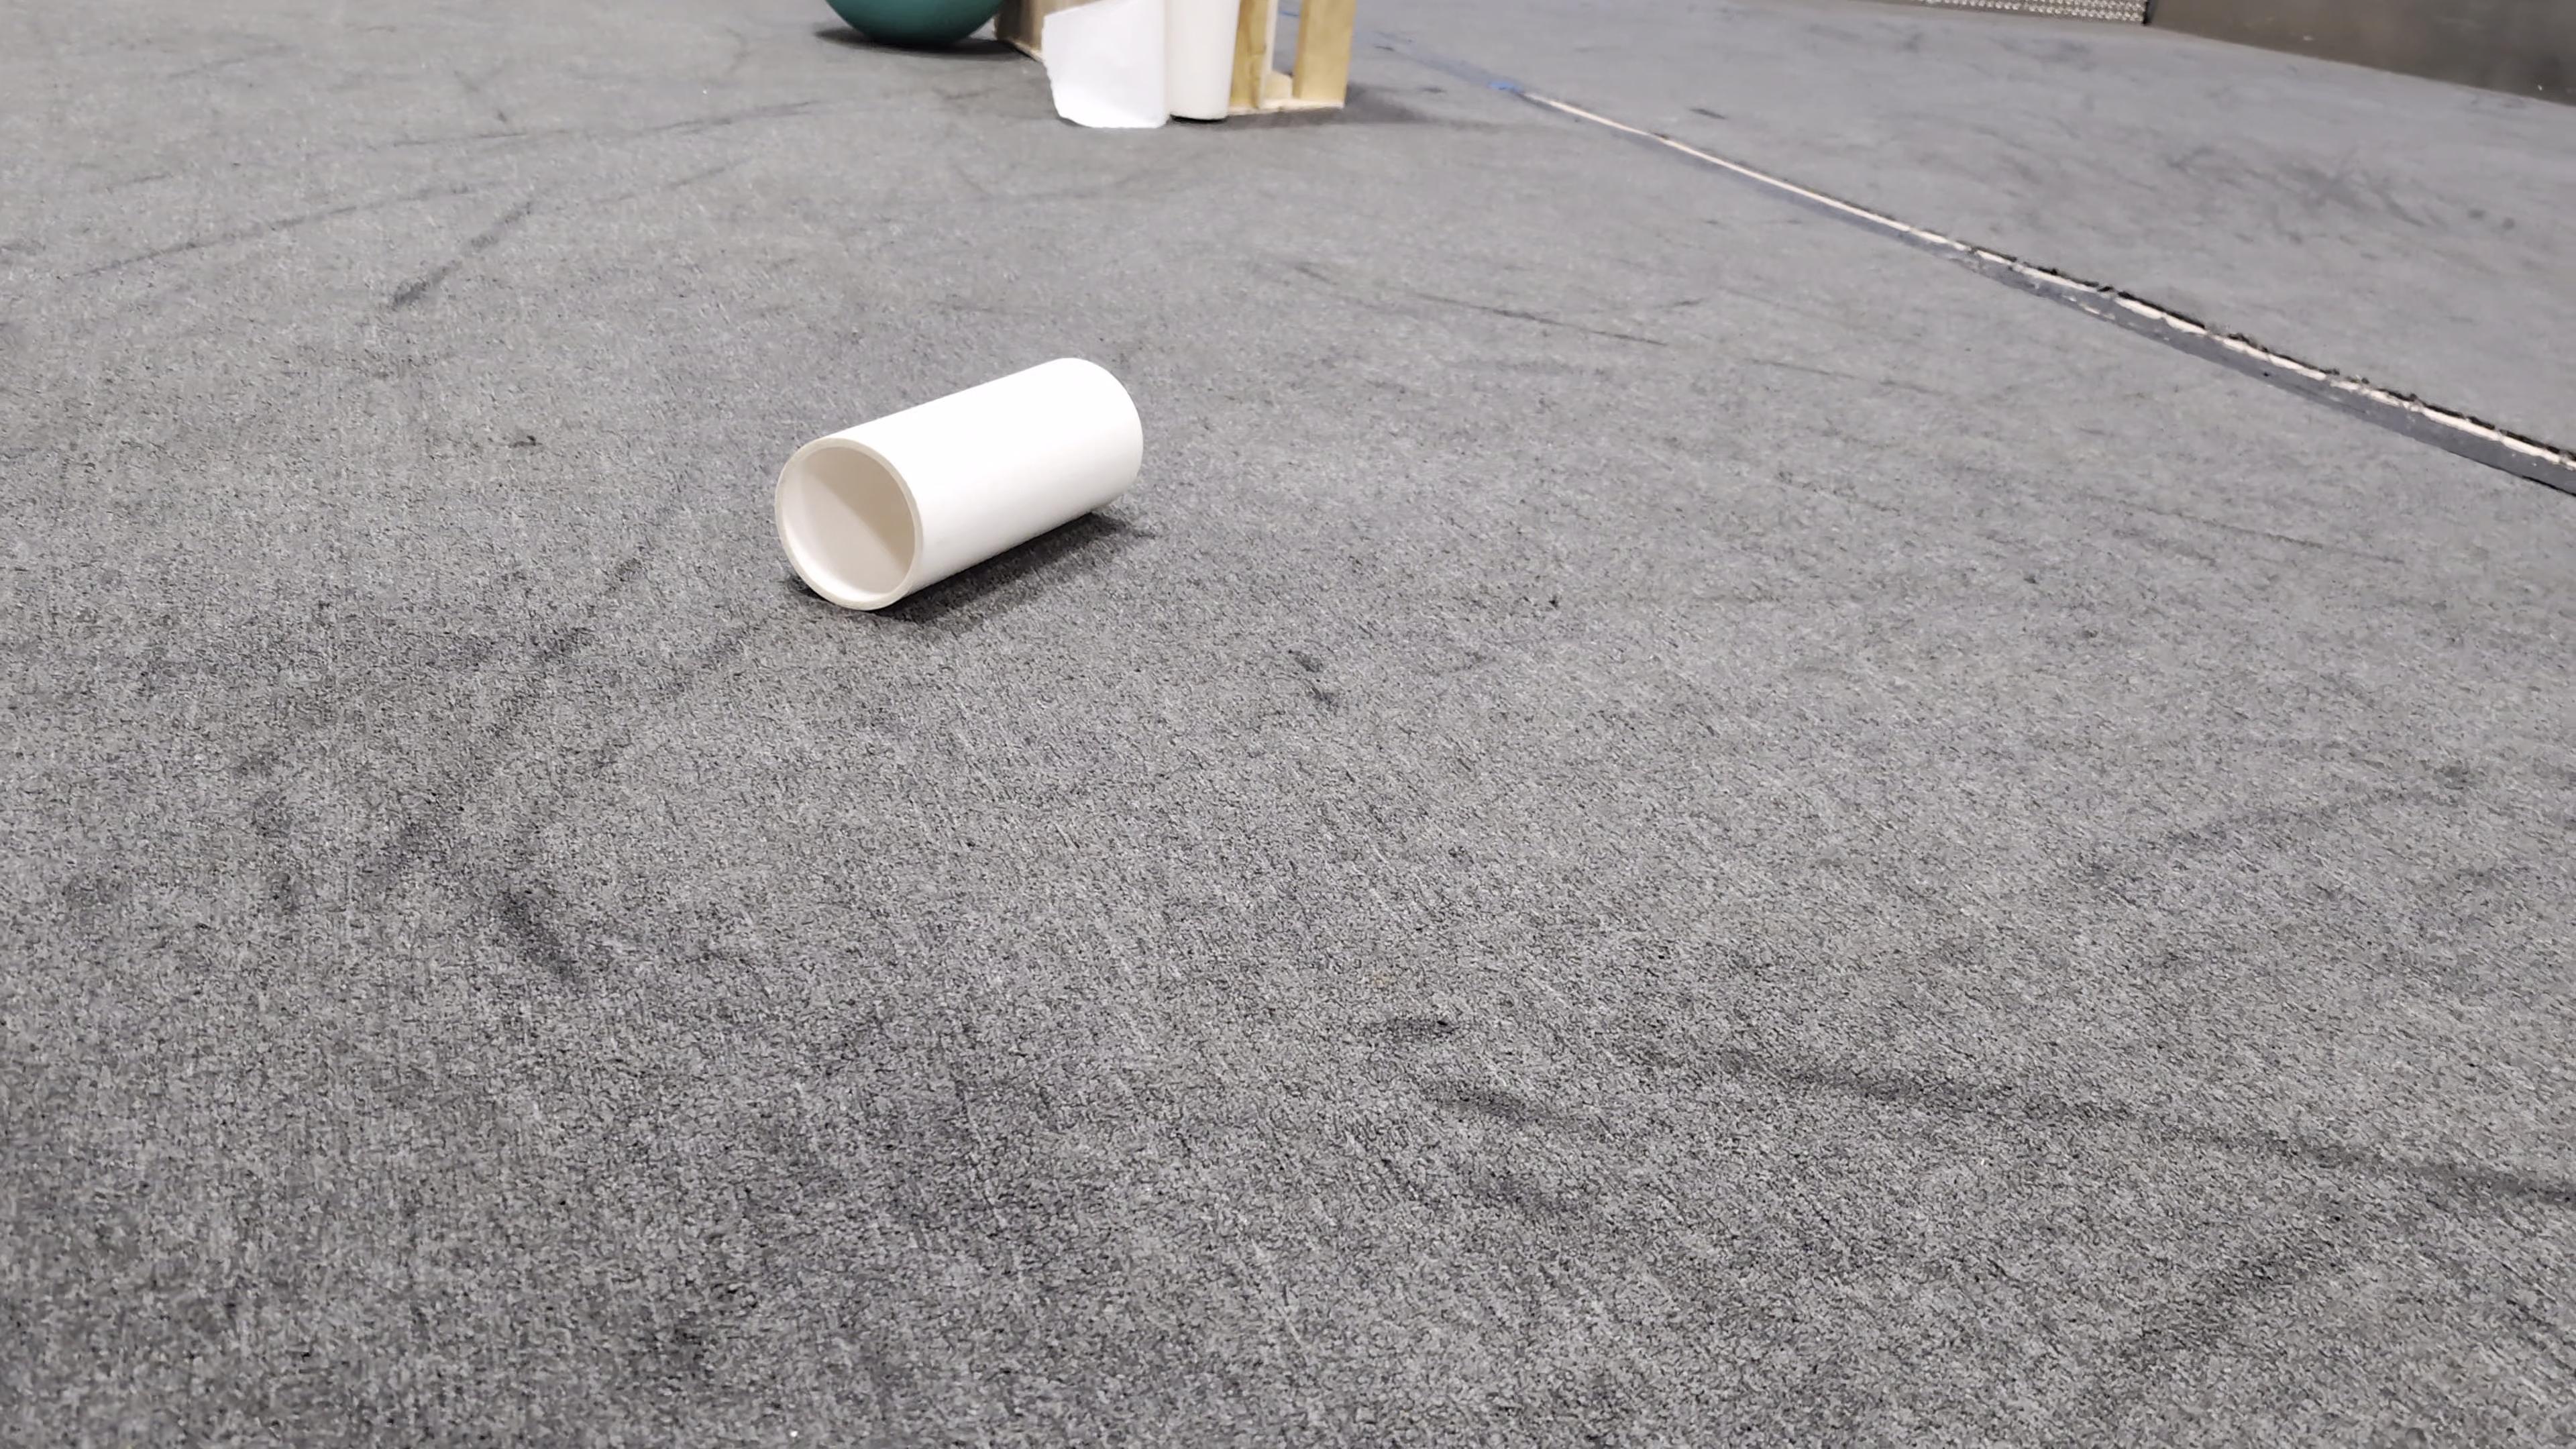coral: (773, 352, 1146, 610)
